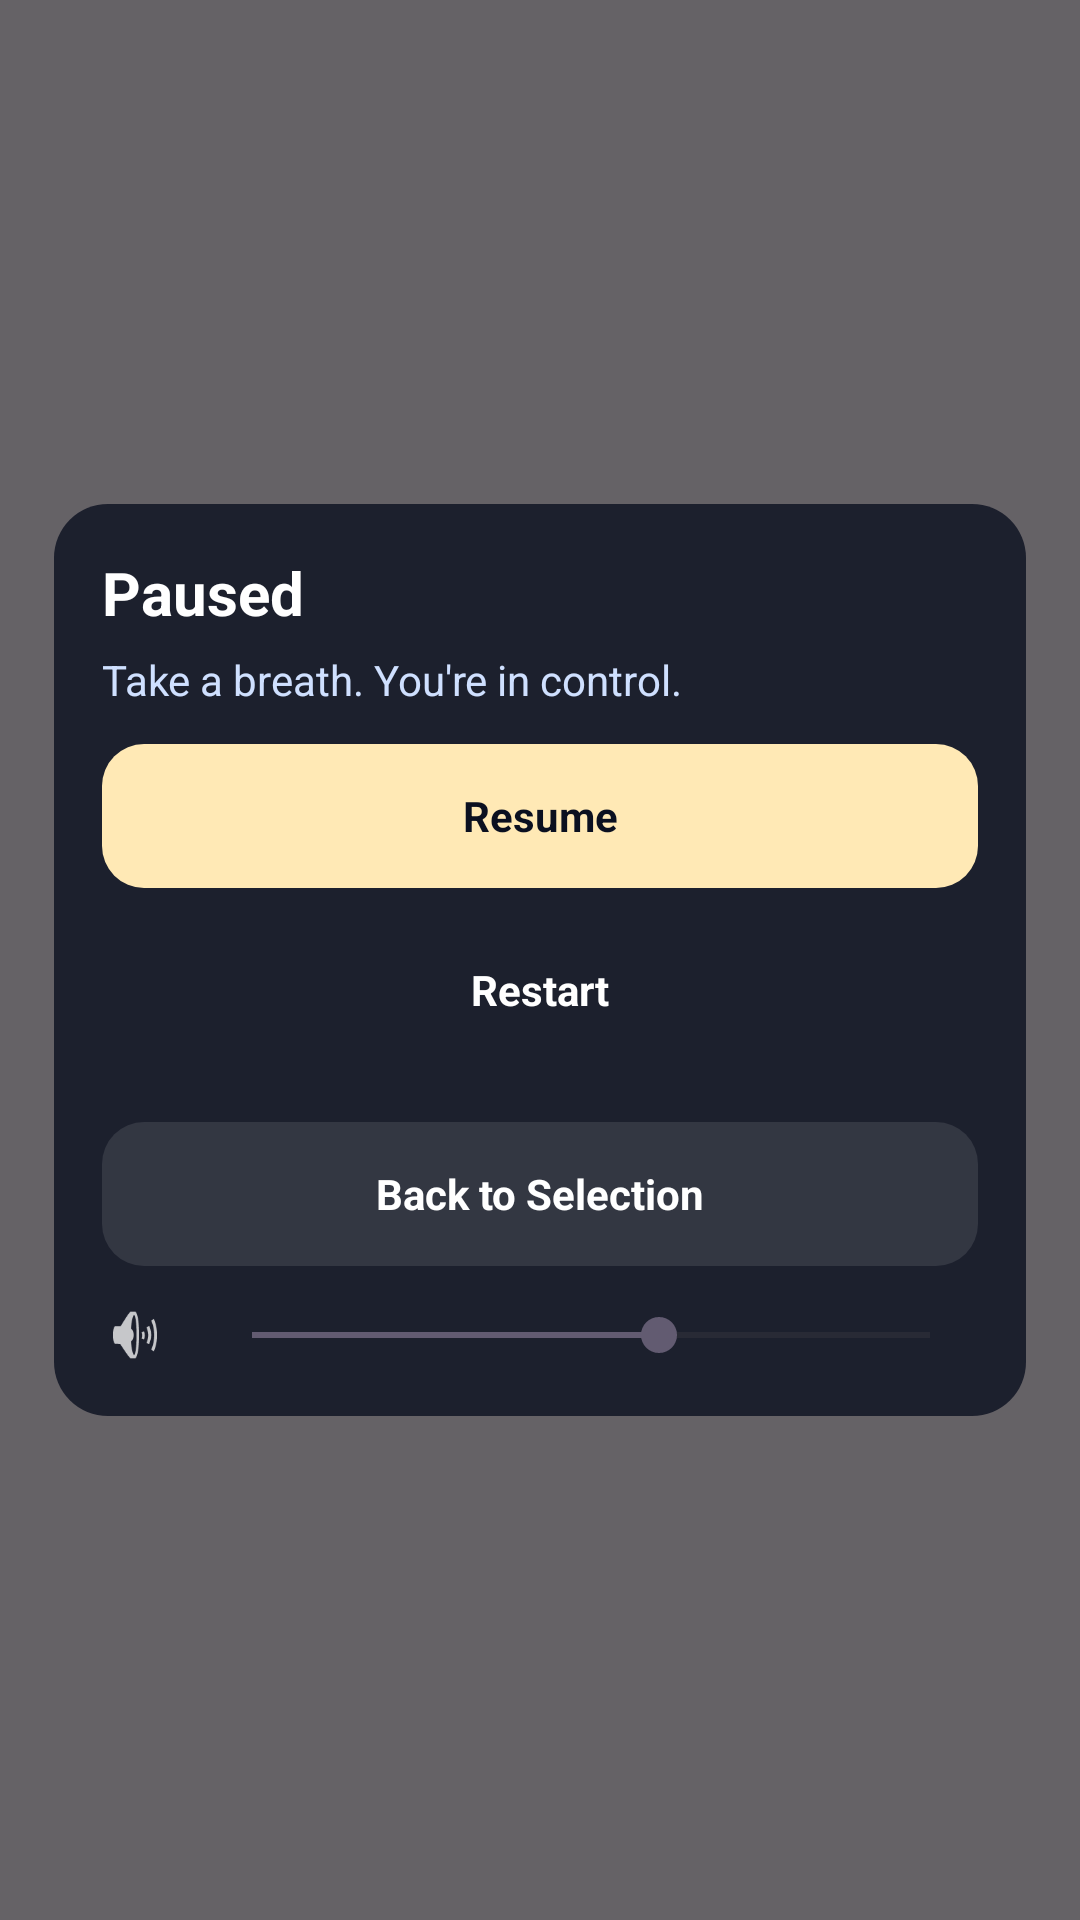

Locate icon controls on the screen. Image size 1080×1920, boxes as (left=x1, top=y1, right=x2, bottom=y2).
Volume: (left=113, top=1311, right=157, bottom=1359)
